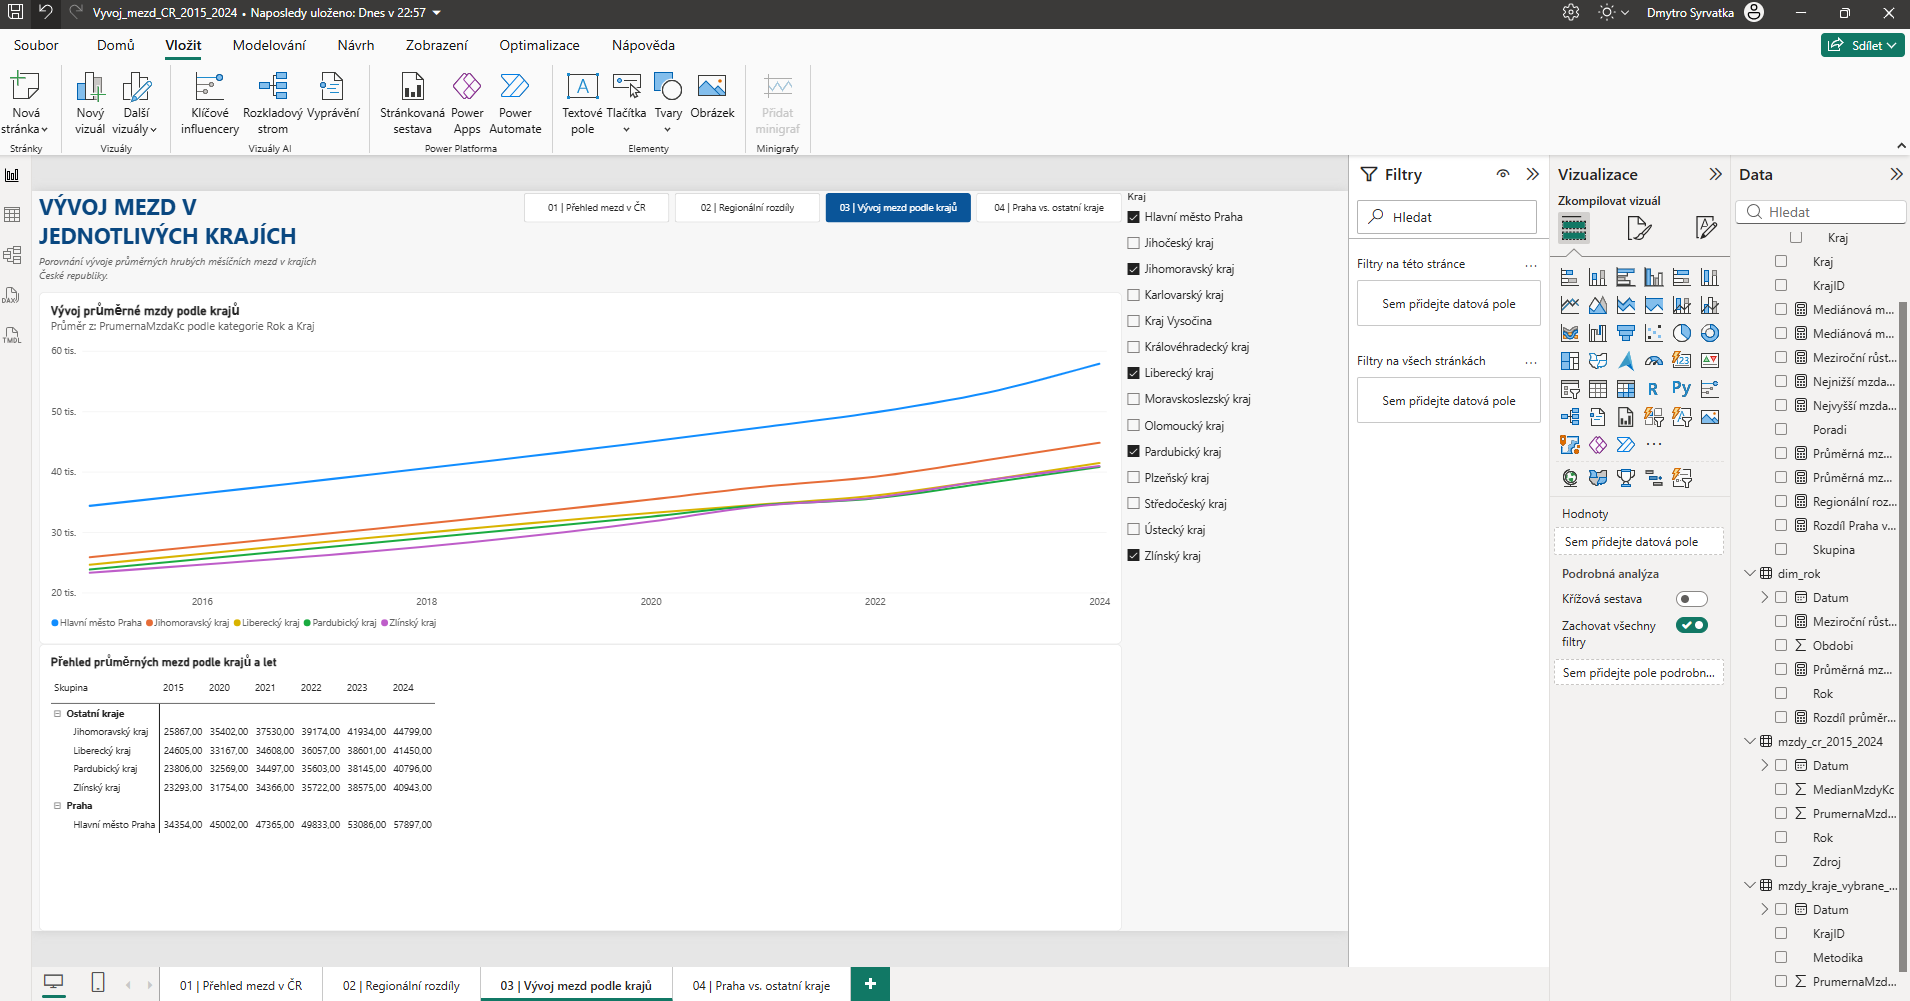

What the dashboard file says about the page in this screenshot:
{"tool":"powerbi","page":{"name":"03 | Vývoj mezd podle krajů","canvas":[1920,1080],"ordinal":2},"visuals":[{"type":"textbox","box":[10.2,0,428.9,91.9],"z":0},{"type":"textbox","box":[10.2,91.9,439.1,55.4],"z":1000},{"type":"lineChart","title":"Vývoj průměrné mzdy podle krajů","fields":{"Category":["dim_rok.Rok"],"Series":["dim_kraj.Kraj"],"Y":["Avg(mzdy_kraje_vybrane_roky.PrumernaMzdaKc)"]},"box":[10.2,147.4,1580.1,513.6],"z":2000},{"type":"slicer","fields":{"Values":["dim_kraj.Kraj"]},"box":[1590.3,0,329.7,1079.6],"z":3000},{"type":"pivotTable","title":"Přehled průměrných mezd podle krajů a let","fields":{"Columns":["dim_rok.Rok"],"Rows":["dim_kraj.Hierarchie regionů.Skupina","dim_kraj.Hierarchie regionů.Kraj"],"Values":["Avg(mzdy_kraje_vybrane_roky.PrumernaMzdaKc)"]},"box":[10,661,1580,419],"z":4000},{"type":"pageNavigator","box":[717.8,2.9,872.5,43.8],"z":5000}]}

Visuals, with their boxes on the page's 1920x1080 design canvas (x1, y1, x2, y2). These are canvas units, not pixel positions in the 1910x1001 screenshot, which may show the page scaled, cropped or inside an application window:
textbox: 10,0,439,92
textbox: 10,92,449,147
"Vývoj průměrné mzdy podle krajů" lineChart: 10,147,1590,661
slicer - dim_kraj.Kraj: 1590,0,1920,1080
"Přehled průměrných mezd podle krajů a let" pivotTable: 10,661,1590,1080
pageNavigator: 718,3,1590,47
